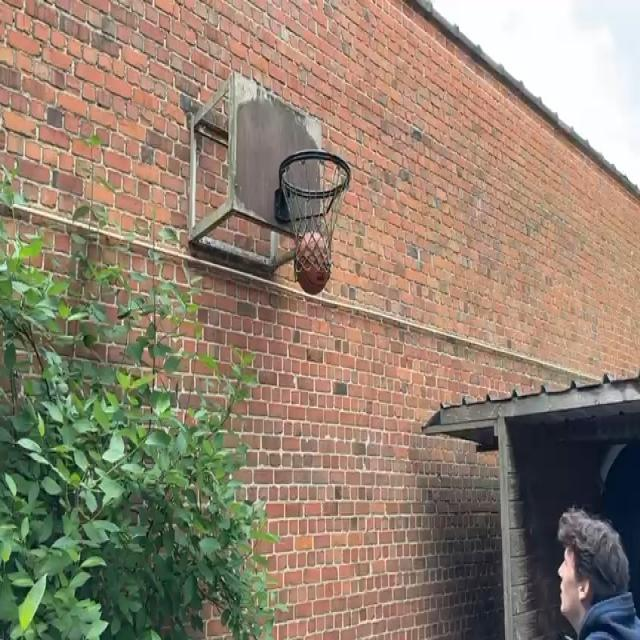Goal: (296, 232, 331, 296)
